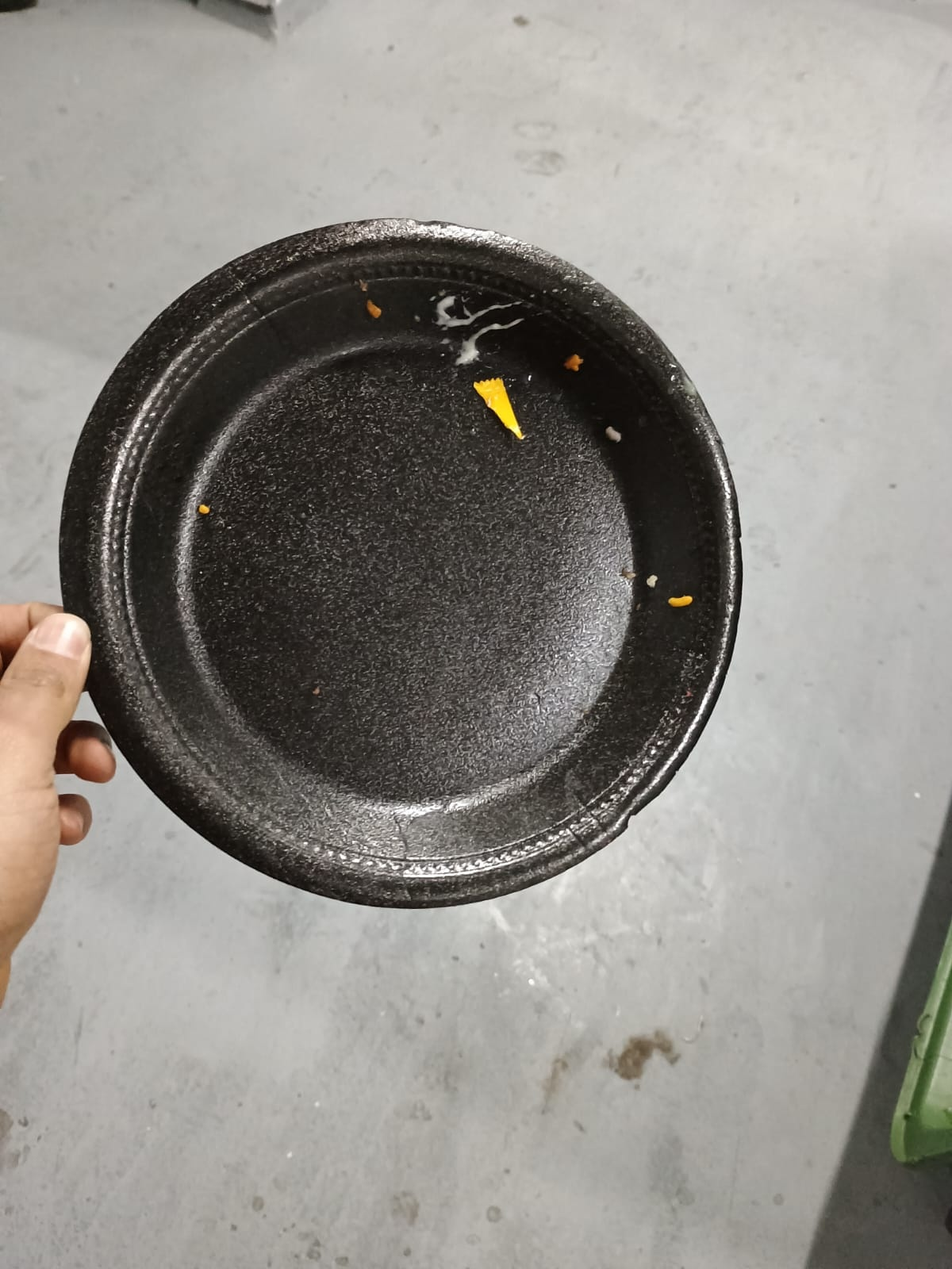Ordinario: (57, 209, 740, 910)
